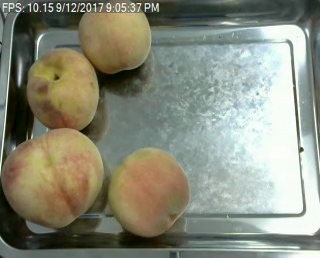Peach: (0, 126, 105, 229), (107, 146, 190, 237), (24, 46, 99, 130), (77, 0, 152, 72)
